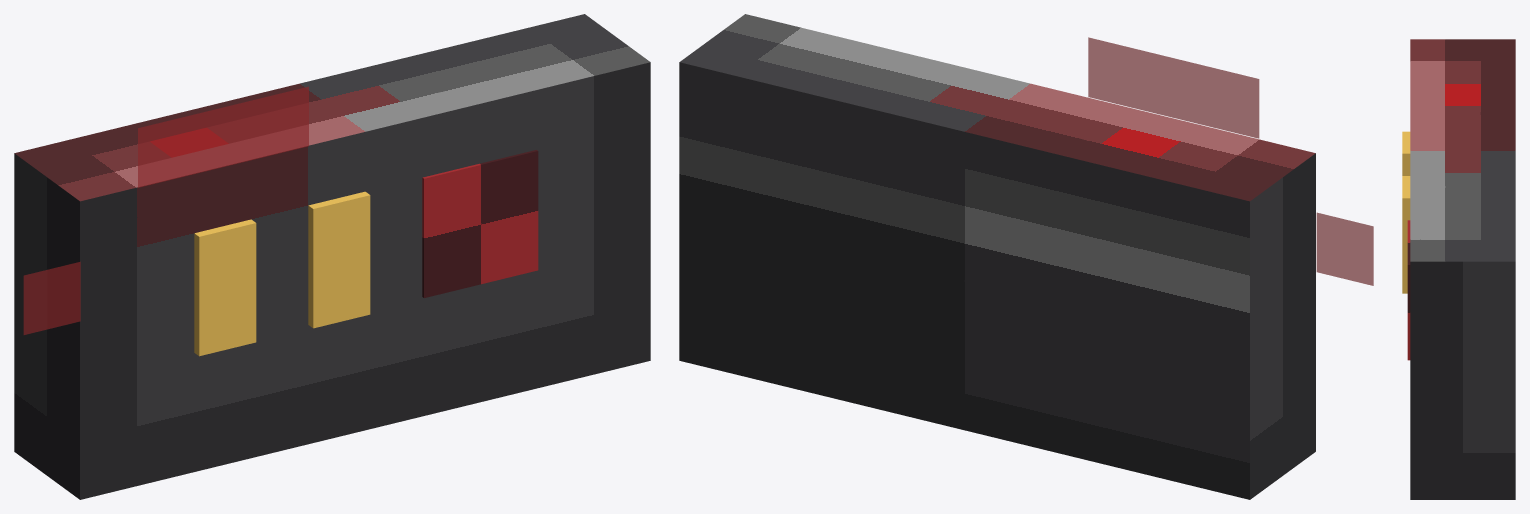
The model's file is airlock_sensor_cycle_0.glb.
3 views of the same model, side by side, from view 1: azimuth 30°, elevation 25°; view 2: azimuth 150°, elevation 25°; view 3: azimuth 270°, elevation 25° (orthographic). The views are drawn at different scales.
Visible parts, largest first — view 1: Continuous_Sensor_Housing, Status_Indicator, Halo_Overlay, Press_Button_2, Press_Button_1; view 2: Continuous_Sensor_Housing, Halo_Overlay; view 3: Continuous_Sensor_Housing, Press_Button_2, Status_Indicator, Press_Button_1.
Part boxes in pixels (left/top/right/bottom): Continuous_Sensor_Housing: left=14, top=14, right=650, bottom=499; Status_Indicator: left=422, top=150, right=538, bottom=297; Halo_Overlay: left=23, top=86, right=308, bottom=334; Press_Button_2: left=308, top=191, right=370, bottom=328; Press_Button_1: left=194, top=219, right=256, bottom=356; Continuous_Sensor_Housing: left=679, top=14, right=1315, bottom=499; Halo_Overlay: left=1088, top=37, right=1373, bottom=285; Continuous_Sensor_Housing: left=1410, top=39, right=1515, bottom=499; Press_Button_2: left=1402, top=176, right=1410, bottom=293; Status_Indicator: left=1407, top=220, right=1410, bottom=360; Press_Button_1: left=1402, top=131, right=1410, bottom=175.
Bounding box in the file's own units: 0.3094 × 0.1688 × 0.0605.
Materials: 2 (2 with a texture image).
